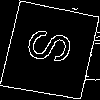S: (25, 26, 84, 69)
